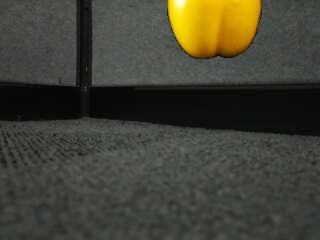Capsicum: (165, 0, 263, 60)
